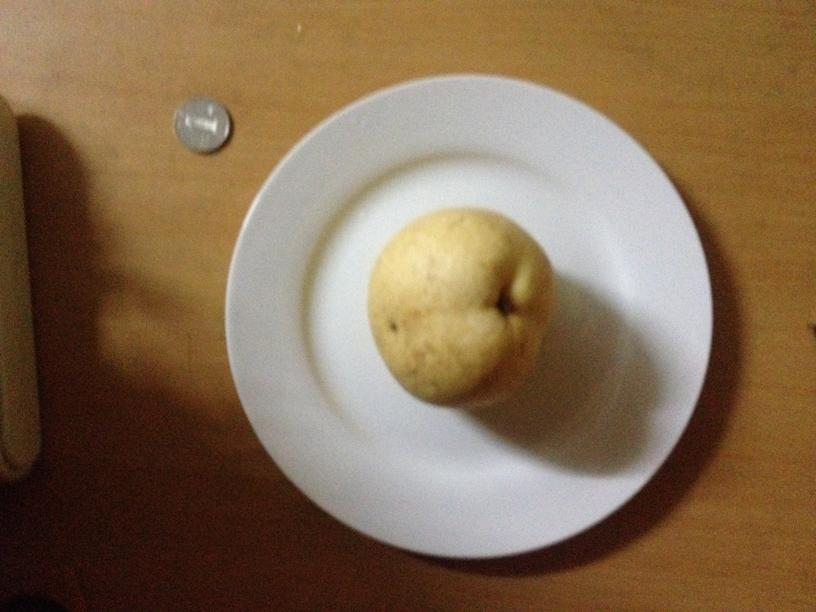coin: (173, 96, 231, 155)
pear: (371, 212, 551, 407)
